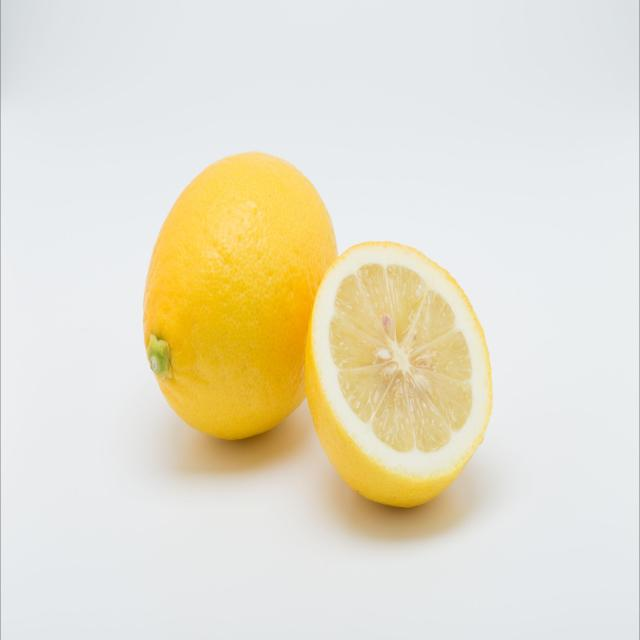lemon: (136, 147, 340, 447), (300, 234, 495, 514)
